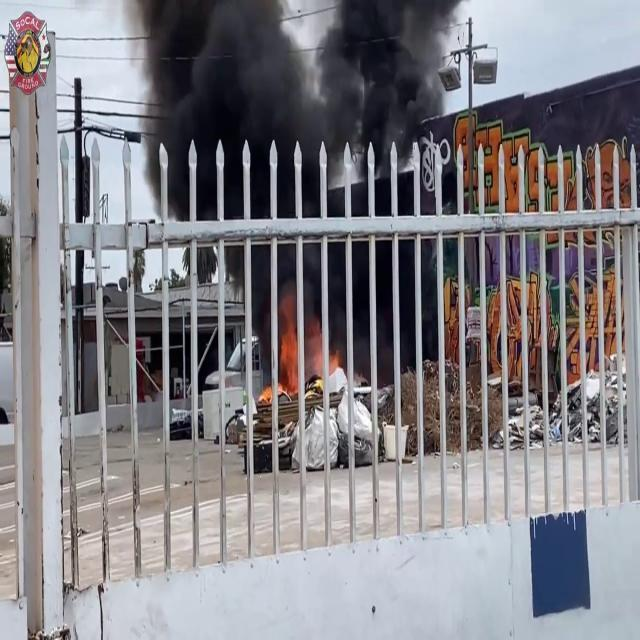Fire: (274, 326, 332, 408)
Smoke: (125, 0, 460, 212)
